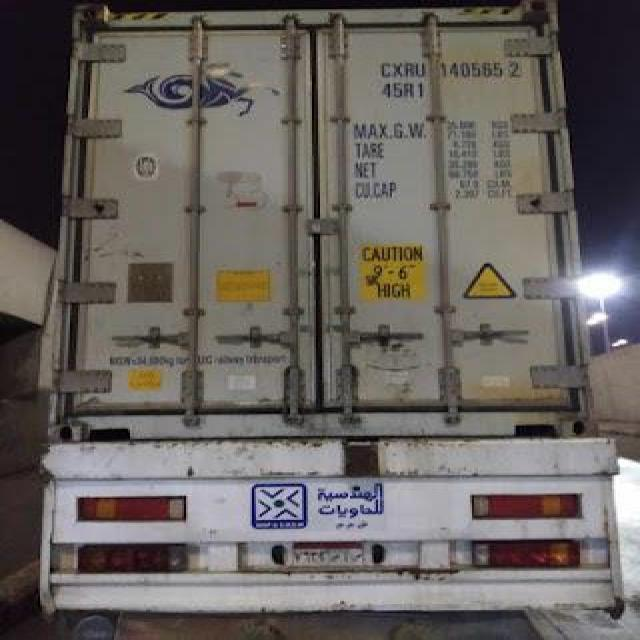ISO: (373, 84, 433, 95)
container_number: (384, 61, 521, 80)
